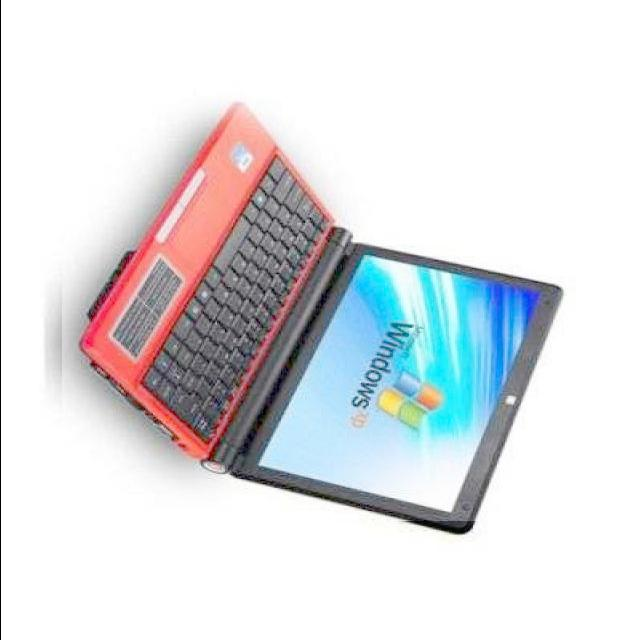-keyboard-: (62, 88, 592, 522)
